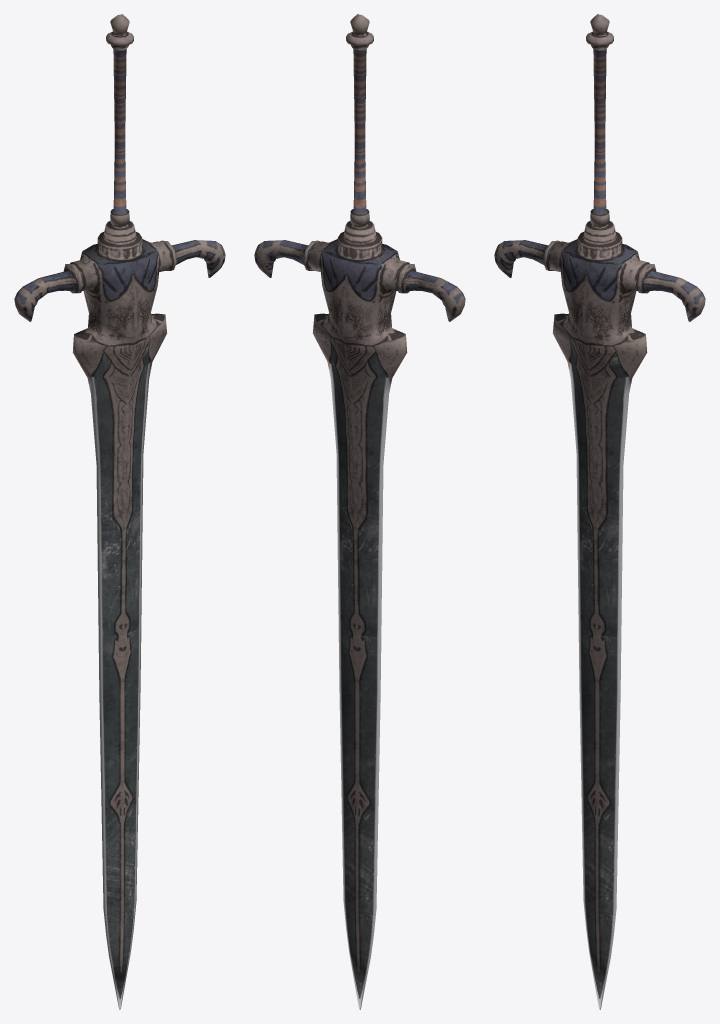
Rendered from arto.obj.
The picture shows the model from 3 angles, left to right: view 1: azimuth 30°, elevation 25°; view 2: azimuth 150°, elevation 25°; view 3: azimuth 330°, elevation 25°; orthographic projection.
Parts seen in each view (by area): view 1: Artorias_Sword_Sword_Cylinder; view 2: Artorias_Sword_Sword_Cylinder; view 3: Artorias_Sword_Sword_Cylinder.
Boxes of the visible parts, x1=… form: Artorias_Sword_Sword_Cylinder: x1=14, y1=14, x2=225, y2=1009; Artorias_Sword_Sword_Cylinder: x1=254, y1=14, x2=465, y2=1009; Artorias_Sword_Sword_Cylinder: x1=494, y1=14, x2=705, y2=1009.
Bounding box in the file's own units: 5.48 × 24.94 × 1.55.
Materials: 1 (1 with a texture image).
